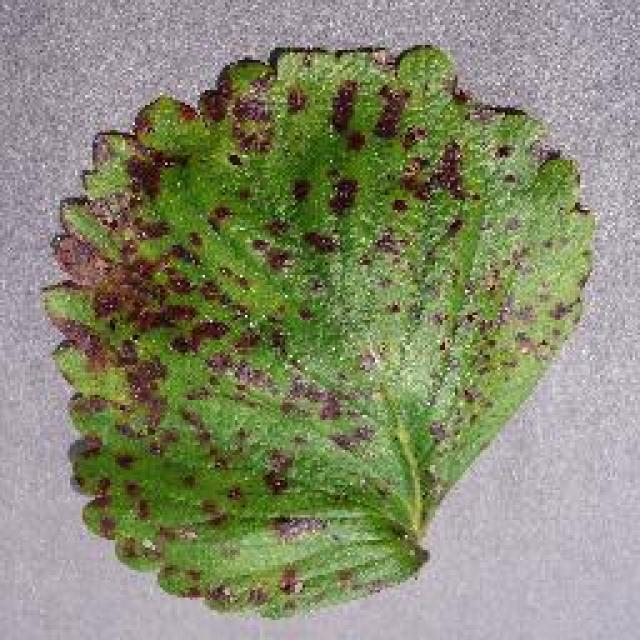Strawberry leaf scorch: (95, 144, 528, 428)
